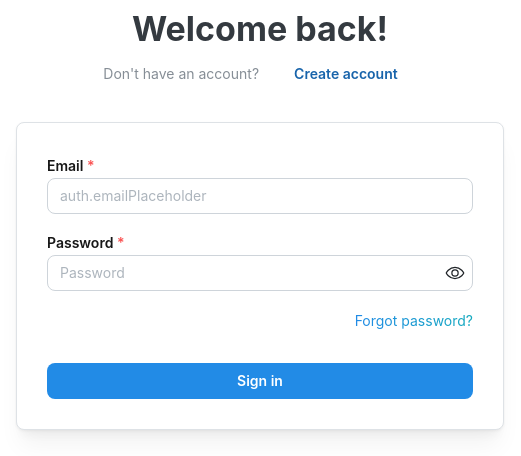
it: LoginForm › Loading State › disables submit button and shows loading state during submission
Step 1. Type "test@example.com" into the field with test id "login-email-input" → (260, 196), box [47,178,473,214]
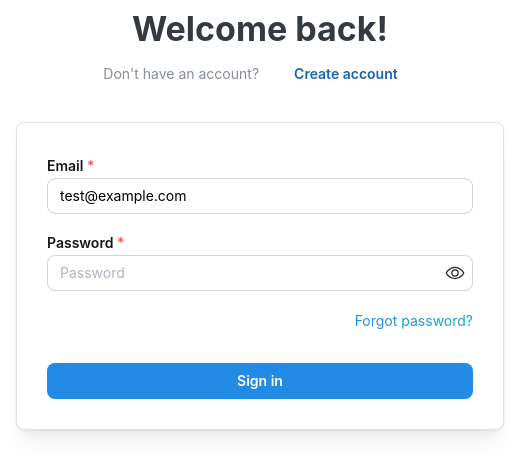
Step 2. Type "Password1" into the password field with test id "login-password-input" → (260, 273), box [48,256,472,290]
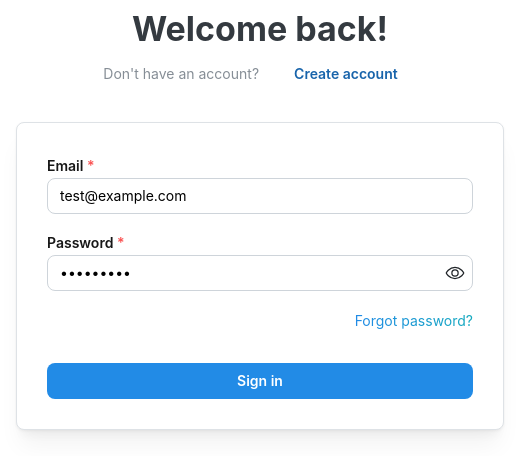
Step 3. Click the button with test id "login-button" → (260, 381), box [47,363,473,399]
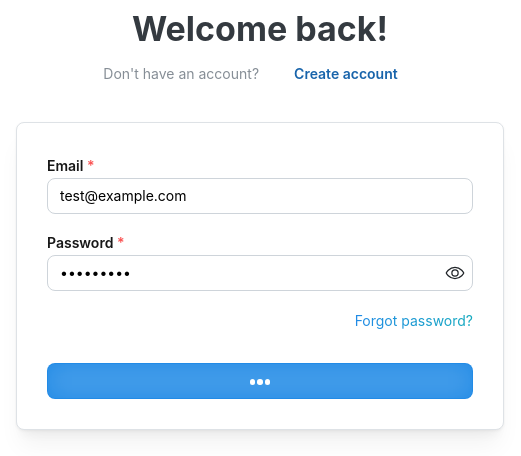
Expected: the button with test id "login-button" is disabled, [47,363,473,399]
